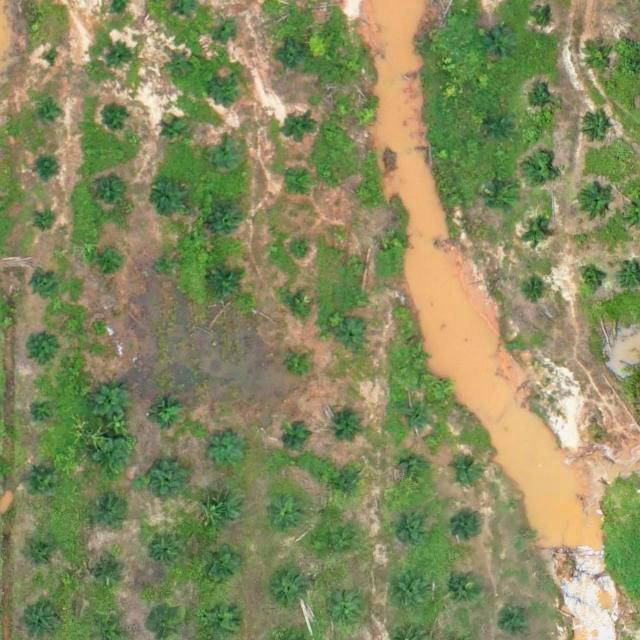Kelapa_Sawit: (318, 527, 357, 566), (390, 512, 429, 551), (146, 177, 185, 216), (145, 398, 184, 437), (148, 460, 187, 499), (207, 137, 246, 176), (389, 573, 428, 612), (91, 383, 130, 422), (200, 547, 238, 586), (269, 494, 307, 533), (206, 430, 244, 469), (269, 570, 307, 609), (324, 593, 362, 632), (443, 567, 481, 606), (92, 438, 130, 477), (204, 493, 242, 532), (577, 181, 615, 220), (212, 73, 243, 104), (27, 543, 58, 574), (91, 501, 122, 532), (96, 559, 127, 590), (148, 536, 179, 567), (25, 463, 56, 494), (453, 511, 484, 542), (333, 406, 364, 437), (281, 421, 312, 452), (211, 204, 242, 235), (211, 269, 242, 300), (400, 403, 431, 434), (336, 321, 367, 352), (397, 456, 428, 487), (451, 455, 482, 486), (502, 603, 533, 634), (331, 471, 362, 502), (27, 332, 58, 363), (27, 396, 58, 427), (525, 86, 556, 117), (524, 155, 555, 186), (580, 113, 611, 144), (283, 113, 314, 144), (281, 170, 312, 201), (280, 289, 311, 320), (583, 42, 614, 73), (484, 29, 515, 60), (277, 41, 308, 72), (94, 175, 125, 206), (101, 101, 132, 132), (485, 186, 516, 217), (405, 345, 428, 368), (287, 352, 310, 375), (524, 220, 547, 243), (524, 277, 547, 300), (579, 267, 602, 290), (288, 240, 311, 263), (345, 252, 368, 275), (384, 229, 407, 252), (351, 182, 374, 205), (355, 104, 378, 127), (486, 116, 509, 139), (40, 50, 63, 73), (39, 103, 62, 126), (37, 160, 60, 183), (34, 210, 57, 233), (109, 42, 132, 65), (168, 55, 191, 78), (162, 120, 185, 143), (216, 16, 239, 39), (156, 254, 179, 277), (96, 250, 119, 273), (31, 270, 54, 293), (536, 9, 551, 24)
